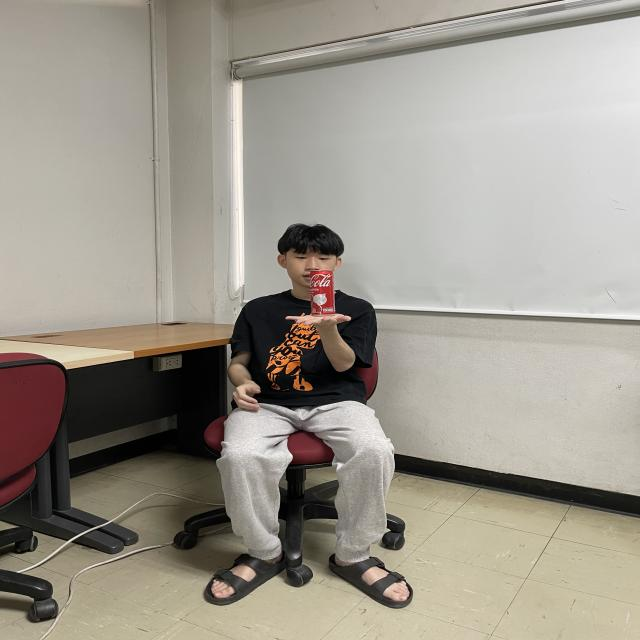can: (310, 268, 337, 317)
